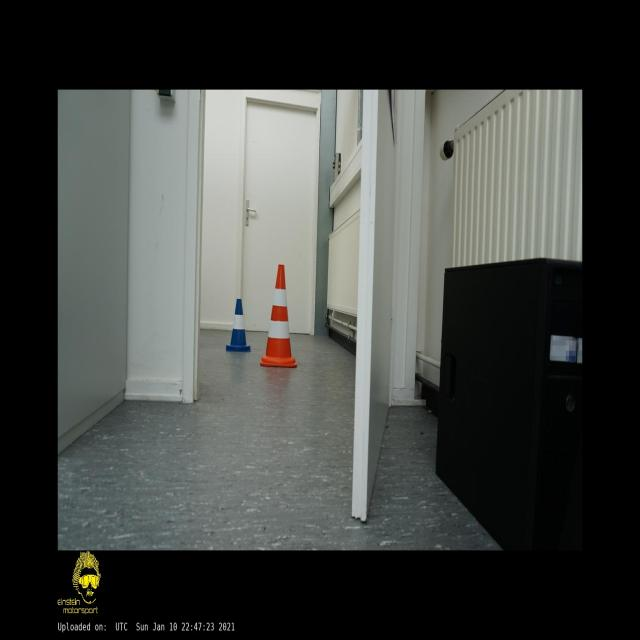blue_cone: (226, 299, 252, 353)
large_orange_cone: (260, 264, 297, 368)
